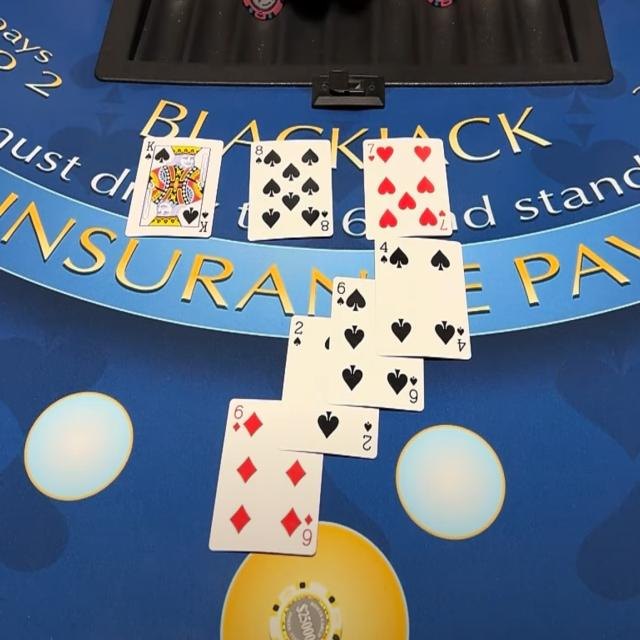2: (293, 318, 306, 336)
4: (377, 240, 390, 254)
6: (231, 402, 245, 421), (334, 279, 348, 296)
7: (365, 141, 376, 155)
8: (252, 144, 264, 156)
K: (145, 139, 155, 152)
